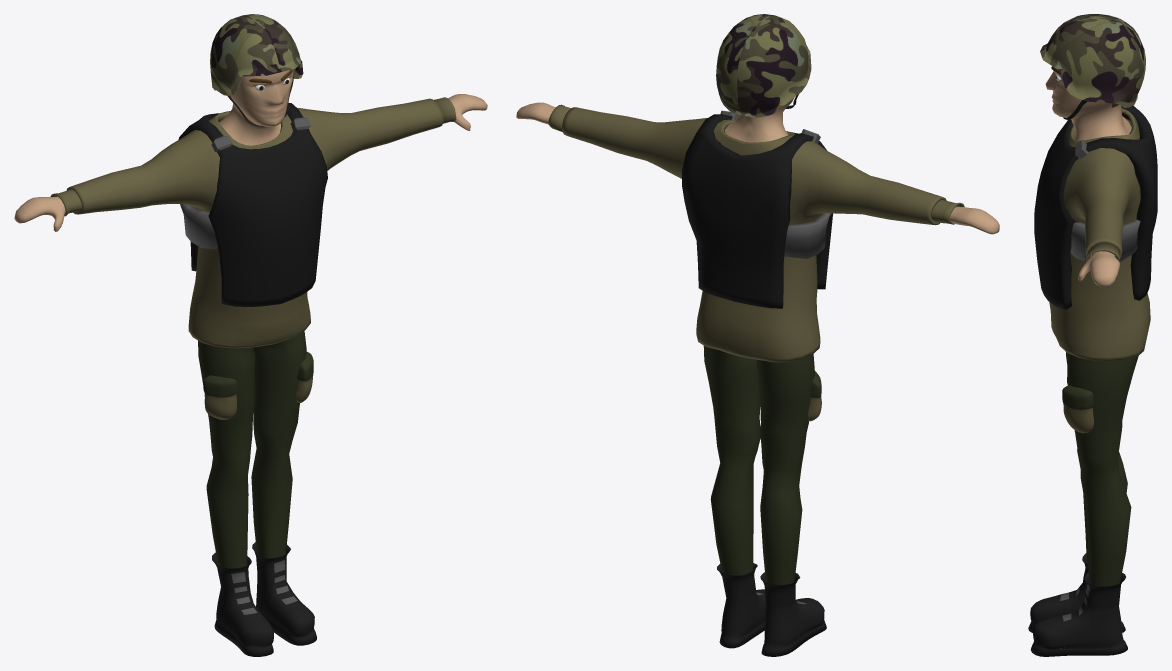
Rendered from chracter-1.fbx.
3 views of the same model, side by side, from view 1: azimuth 30°, elevation 25°; view 2: azimuth 150°, elevation 25°; view 3: azimuth 270°, elevation 25° (orthographic). The views are drawn at different scales.
Parts seen in each view (by area): view 1: character-1, helmet; view 2: character-1, helmet; view 3: character-1, helmet.
Part boxes in pixels (x1,y1,x2,y2): character-1: (14, 69, 487, 656); helmet: (210, 14, 303, 126); character-1: (516, 98, 999, 656); helmet: (716, 14, 811, 117); character-1: (1028, 66, 1157, 656); helmet: (1040, 14, 1145, 120).
Bounding box in the file's own units: 328 × 406 × 76.8.
10 materials, 1 textured.
